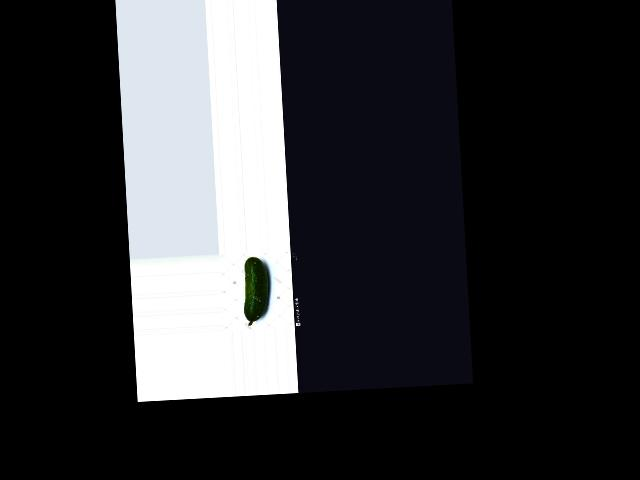cucumber: (241, 255, 270, 326)
